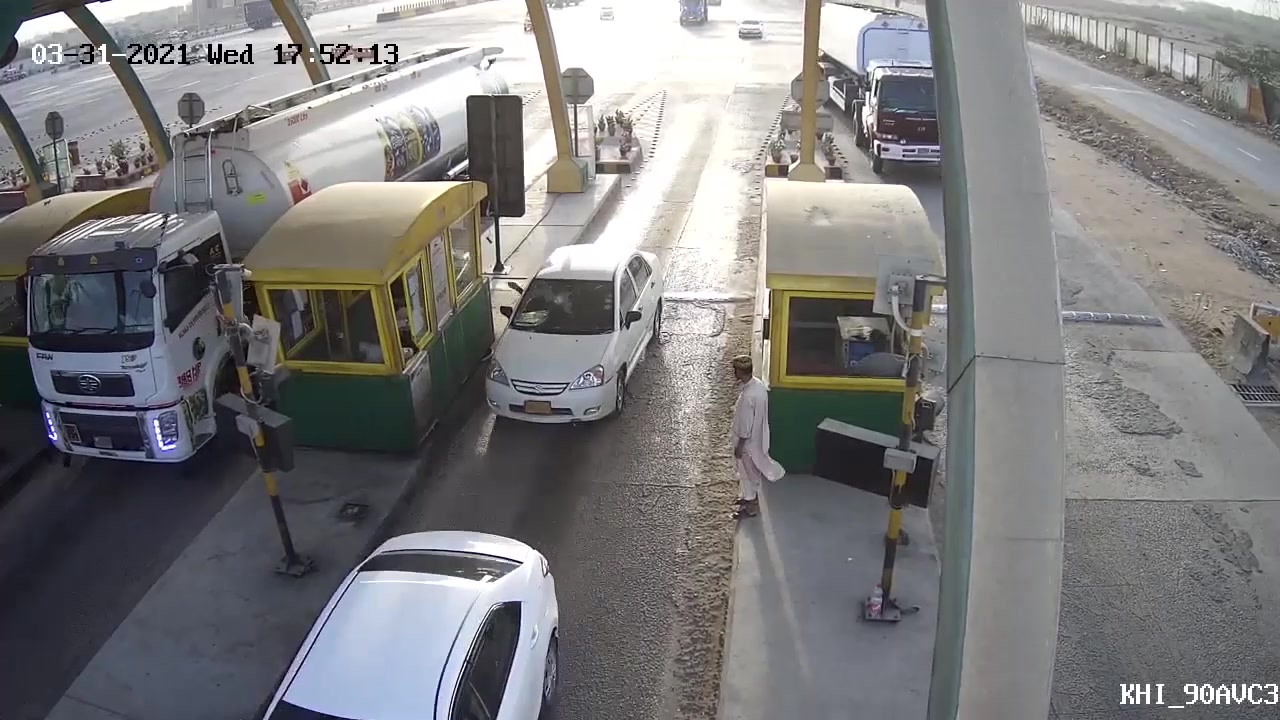F1: (476, 233, 676, 449)
